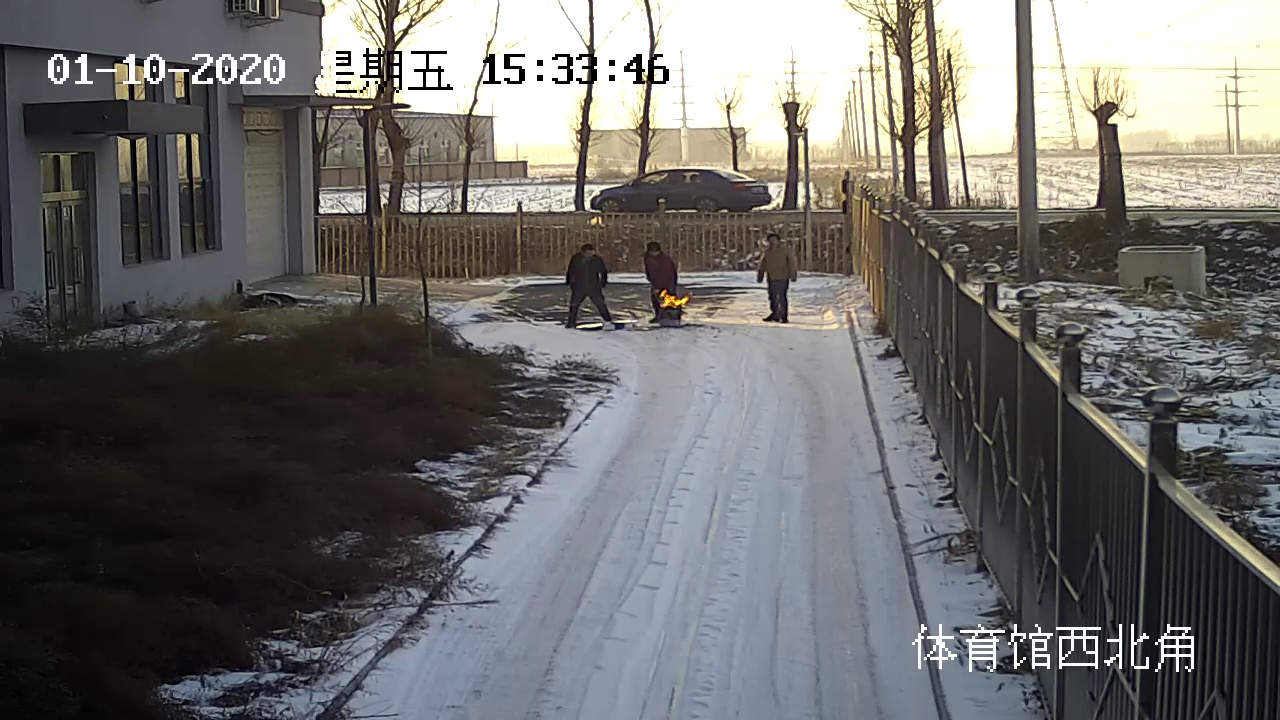fire: (656, 285, 694, 305)
